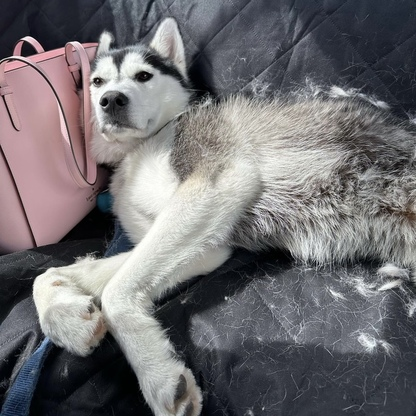husky: (28, 13, 416, 416)
